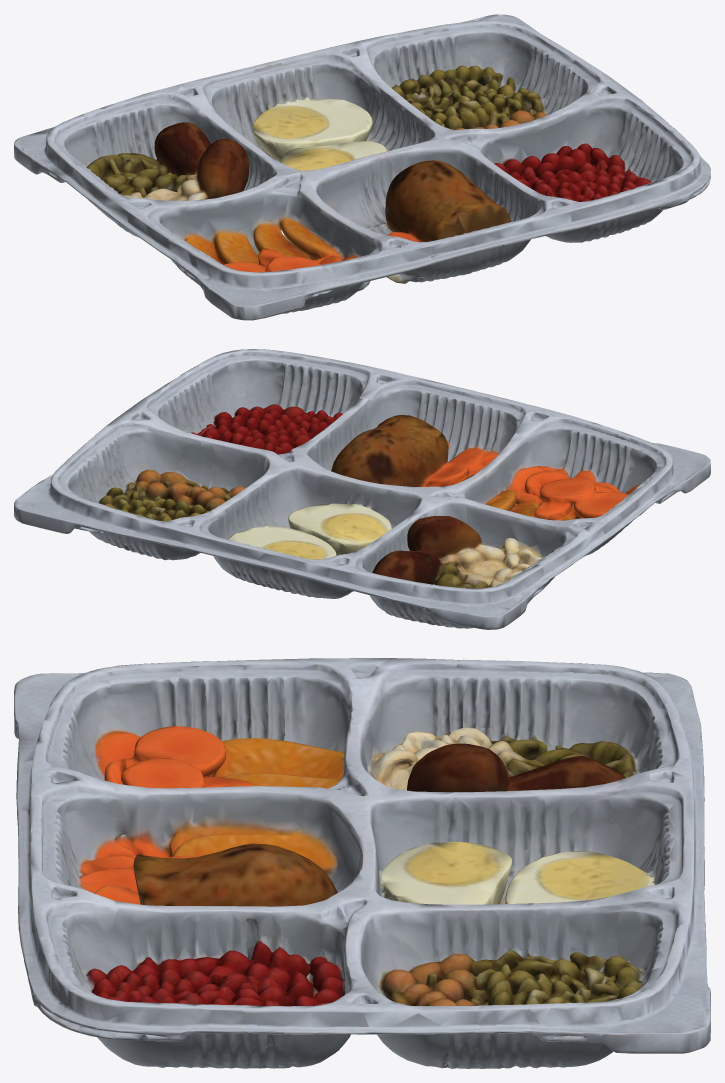
Rendered from Standard.glb.
3 renders of one model, top to bottom at view 1: azimuth 30°, elevation 25°; view 2: azimuth 150°, elevation 25°; view 3: azimuth 270°, elevation 25°, orthographic. The views are drawn at different scales.
Parts seen in each view (by area): view 1: mesh_node; view 2: mesh_node; view 3: mesh_node.
Boxes of the visible parts, x1,y1,x2,y2 form: mesh_node: (14,14,710,320); mesh_node: (14,349,710,629); mesh_node: (14,658,710,1068).
Bounding box in the file's own units: 1.9 × 0.2416 × 1.55.
1 material, 1 textured.
